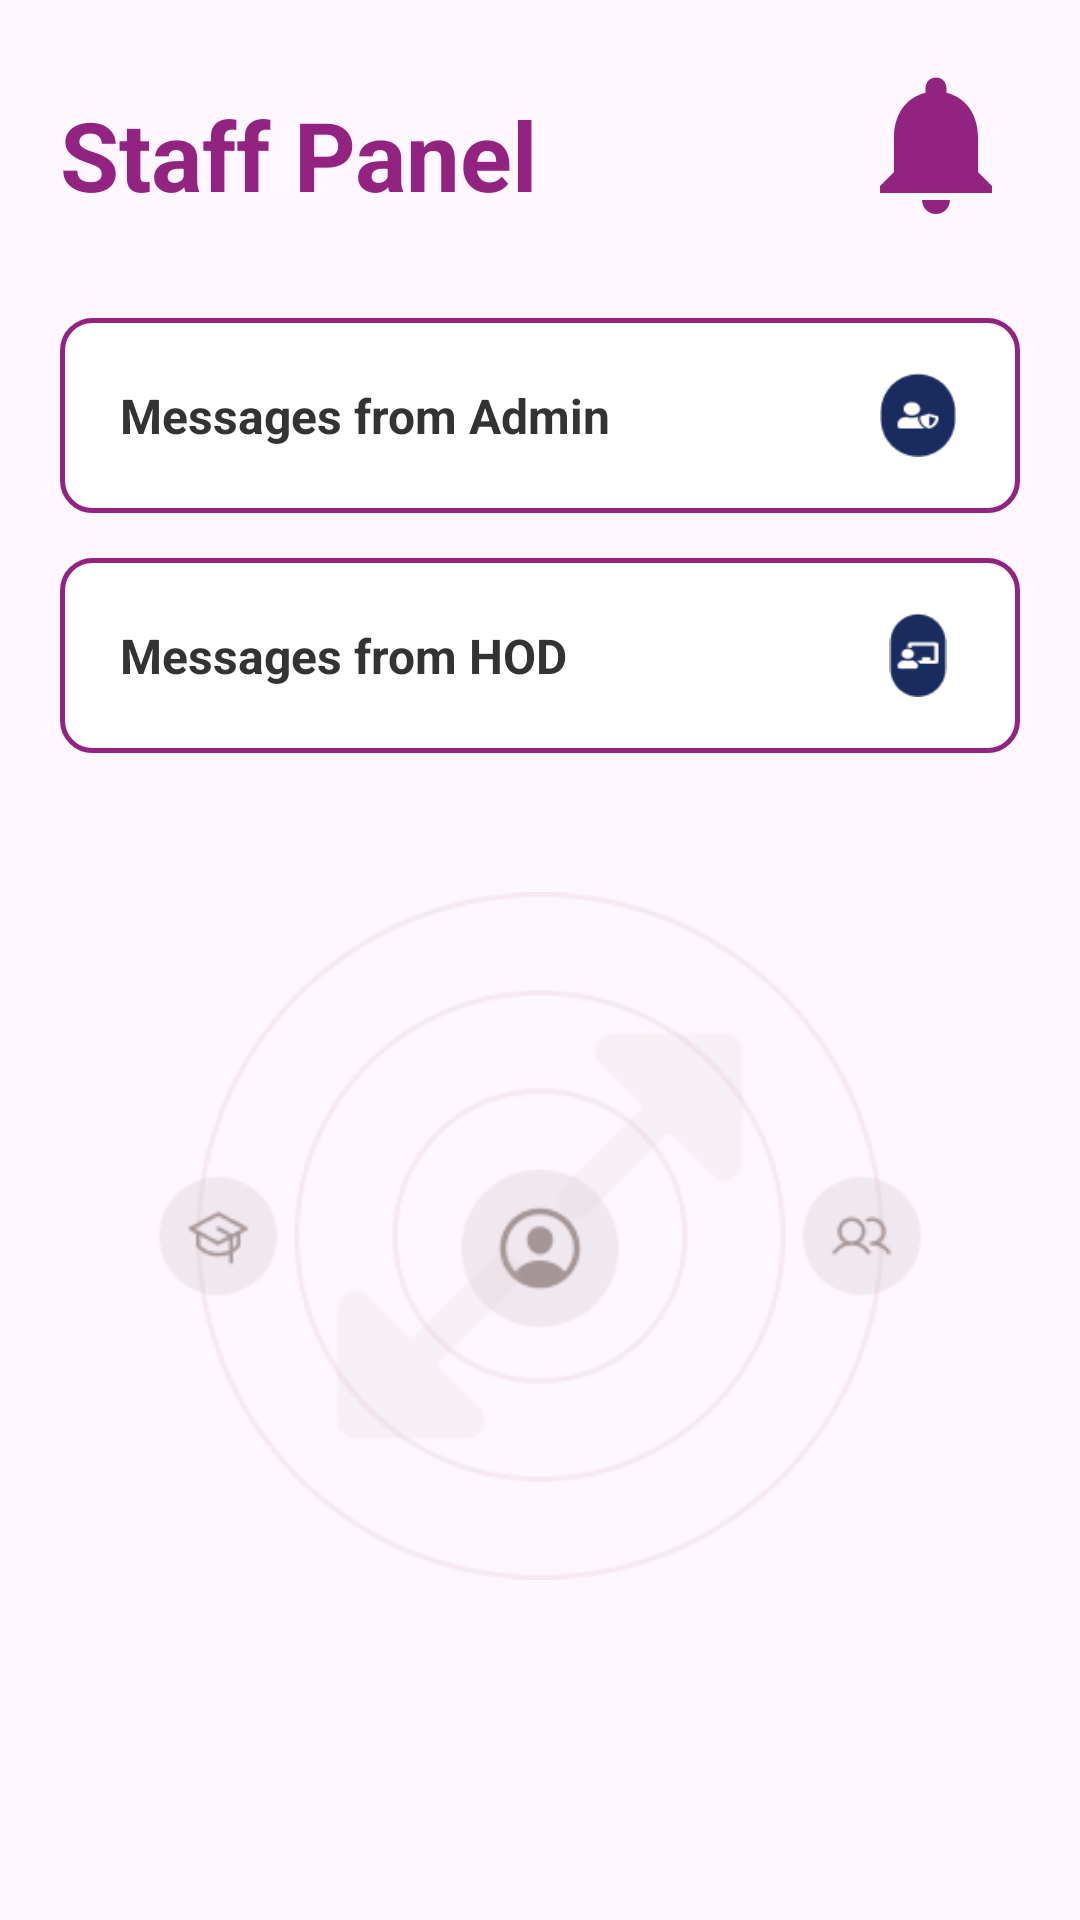

Screen size 1080x1920. Icon name, then its center in pixels as [x,y]:
Notifications: [936,145]
